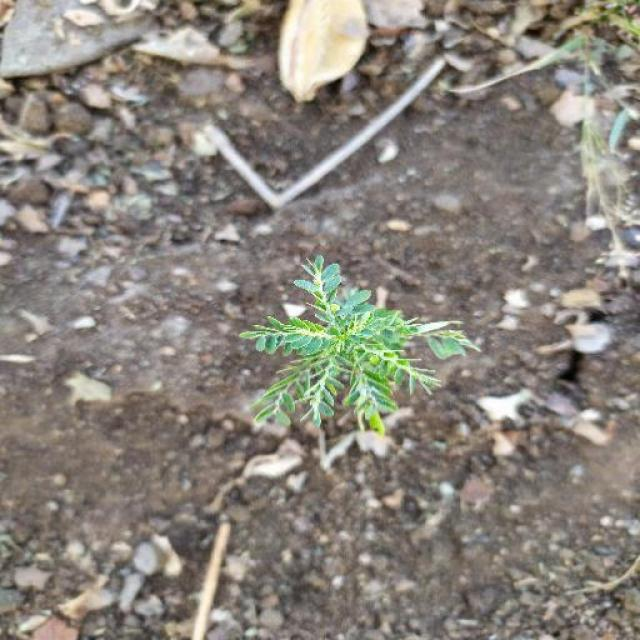weed: (233, 242, 482, 448)
